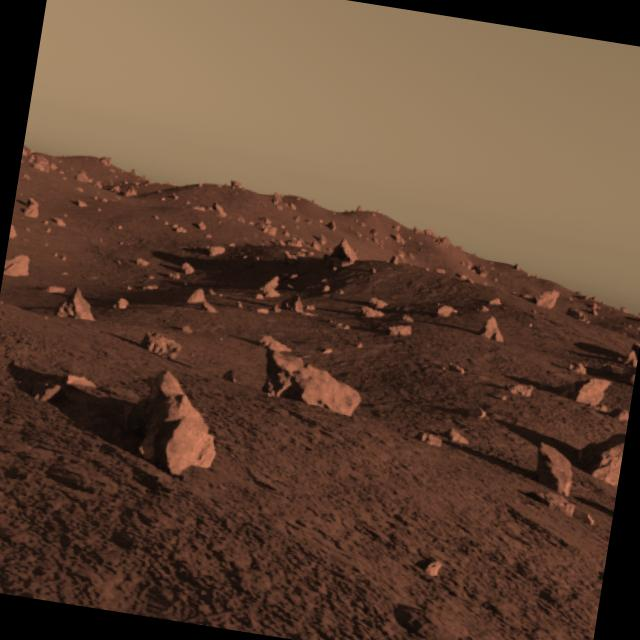rock: (111, 358, 235, 483), (242, 328, 374, 432), (558, 354, 626, 420), (522, 432, 584, 498), (578, 420, 627, 496), (47, 278, 106, 335), (2, 246, 36, 282)
